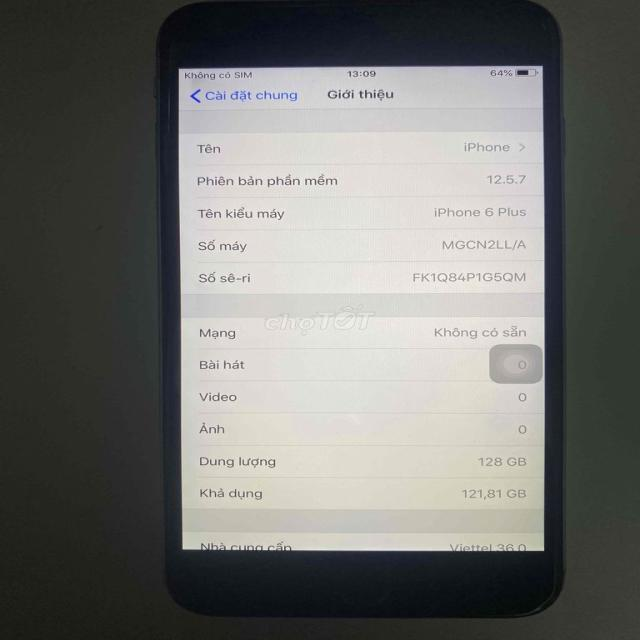gen_6: (148, 0, 579, 632)
